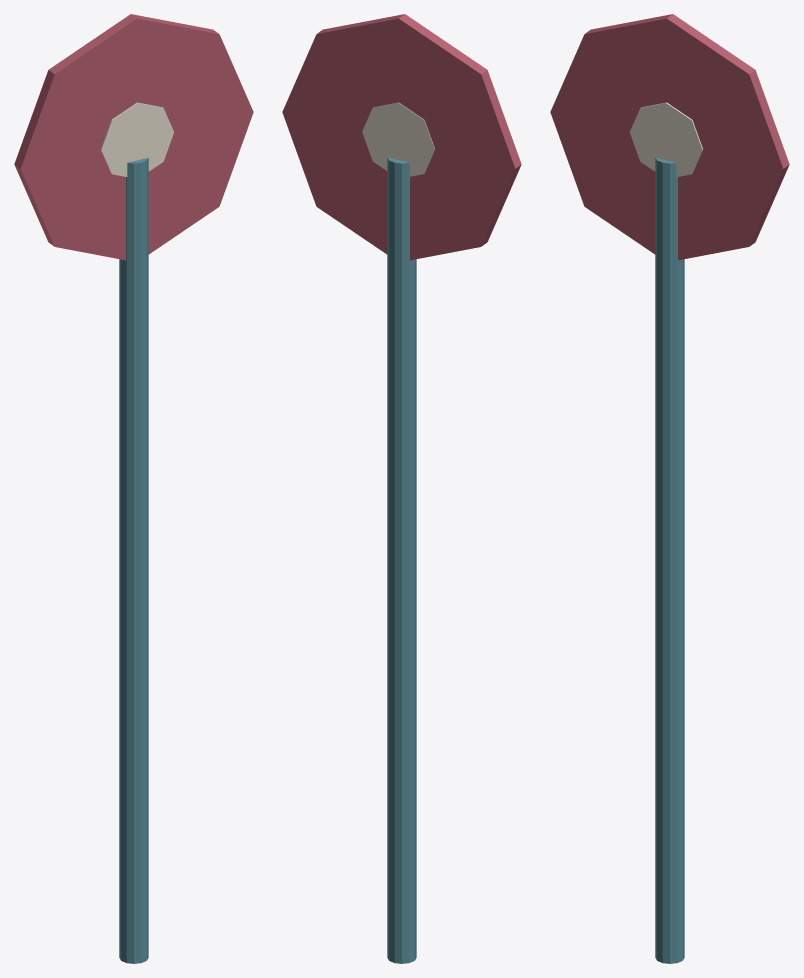
The model's file is mdl_urban_traffic_sign_stop_001.glb.
3 renders of one model, left to right at view 1: azimuth 30°, elevation 25°; view 2: azimuth 150°, elevation 25°; view 3: azimuth 330°, elevation 25°, orthographic.
Parts seen in each view (by area): view 1: m_carmesi, m_petroleo, m_crema; view 2: m_carmesi, m_petroleo, m_crema; view 3: m_carmesi, m_petroleo, m_crema.
Part boxes in pixels (x1,y1,x2,y2): m_carmesi: (14, 14, 253, 260); m_petroleo: (119, 157, 148, 963); m_crema: (101, 102, 174, 176); m_carmesi: (282, 14, 521, 260); m_petroleo: (387, 157, 416, 963); m_crema: (362, 102, 434, 176); m_carmesi: (550, 14, 789, 260); m_petroleo: (655, 157, 684, 963); m_crema: (629, 102, 702, 176).
Bounding box in the file's own units: 0.64 × 2.47 × 0.07.
